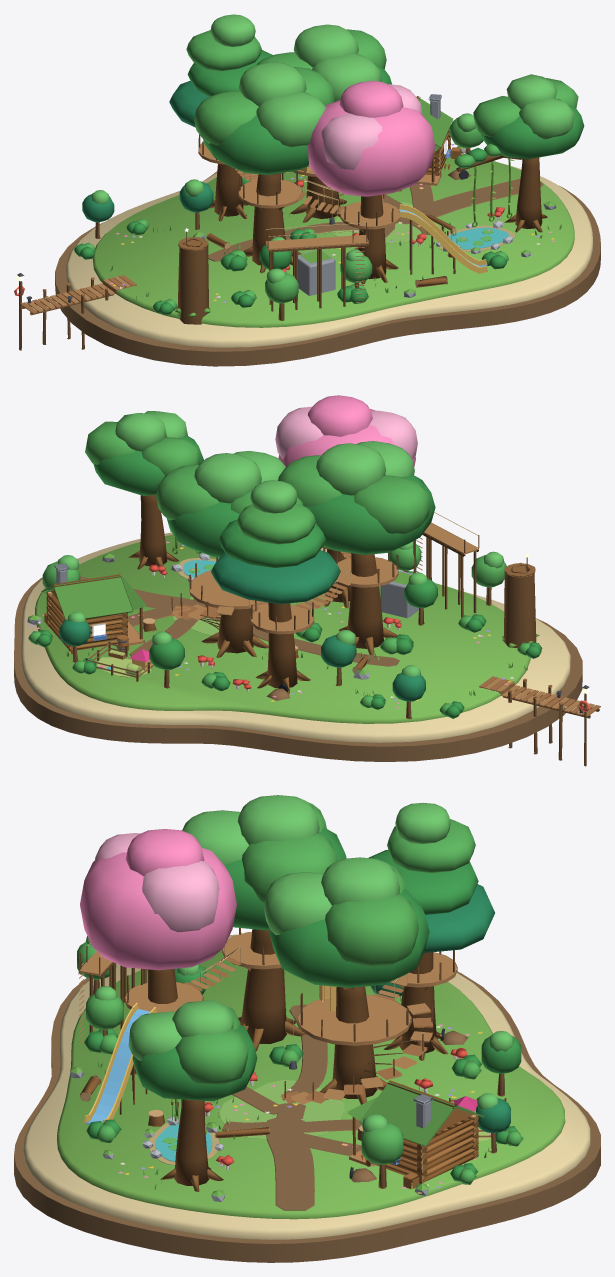
File: bosque-media.glb
3 renders of one model, top to bottom at view 1: azimuth 30°, elevation 25°; view 2: azimuth 150°, elevation 25°; view 3: azimuth 270°, elevation 25°, orthographic. The views are drawn at different scales.
Parts seen in each view (by area): view 1: ilha-media; view 2: ilha-media; view 3: ilha-media.
Boxes of the visible parts, box(x1,y1,x2,y2) form: ilha-media: box(14, 14, 600, 366); ilha-media: box(14, 395, 600, 766); ilha-media: box(14, 795, 600, 1262).
Bounding box in the file's own units: 40.51 × 16.94 × 29.58.
